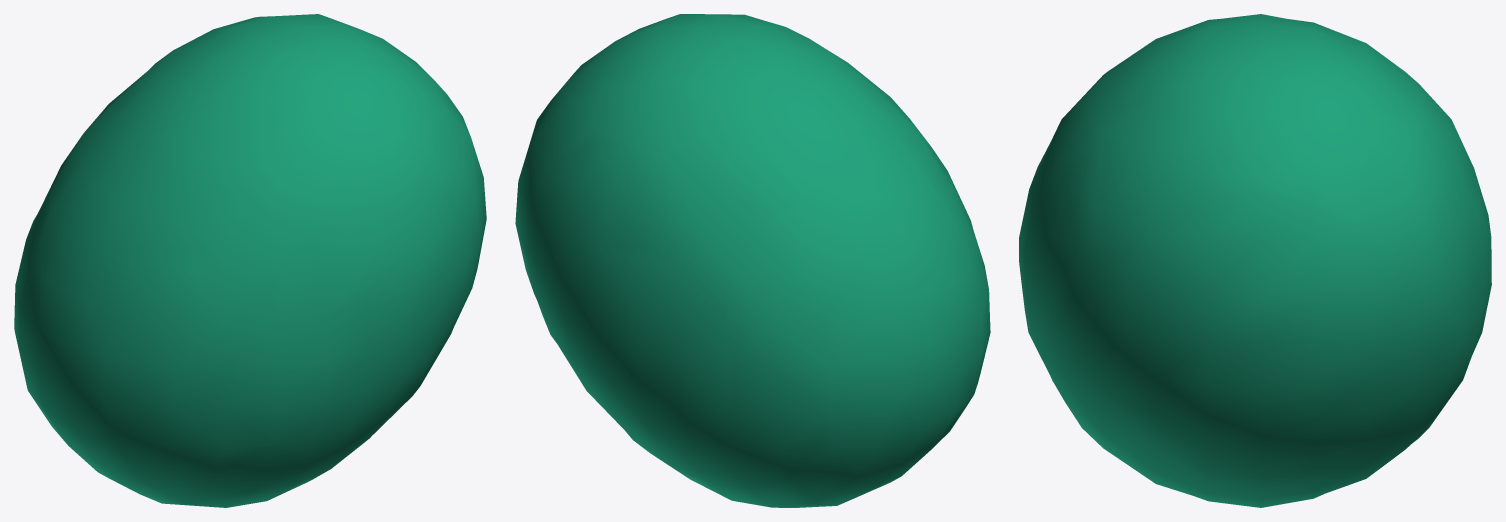
Rendered from viewer-auto-gaussian-gigantic.obj.
3 renders of one model, left to right at view 1: azimuth 30°, elevation 25°; view 2: azimuth 150°, elevation 25°; view 3: azimuth 270°, elevation 25°, orthographic. The views are drawn at different scales.
Size of the model in its own units: 10.28 by 10.27 by 8.98.
